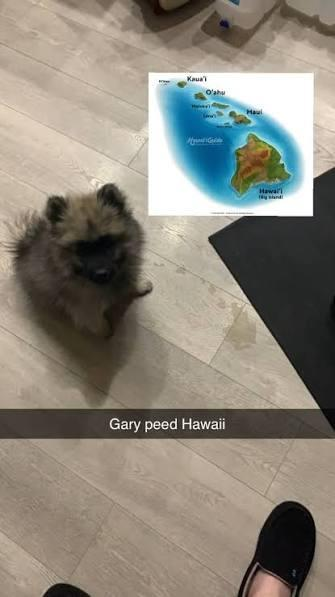puppy-dog: (4, 183, 154, 341)
